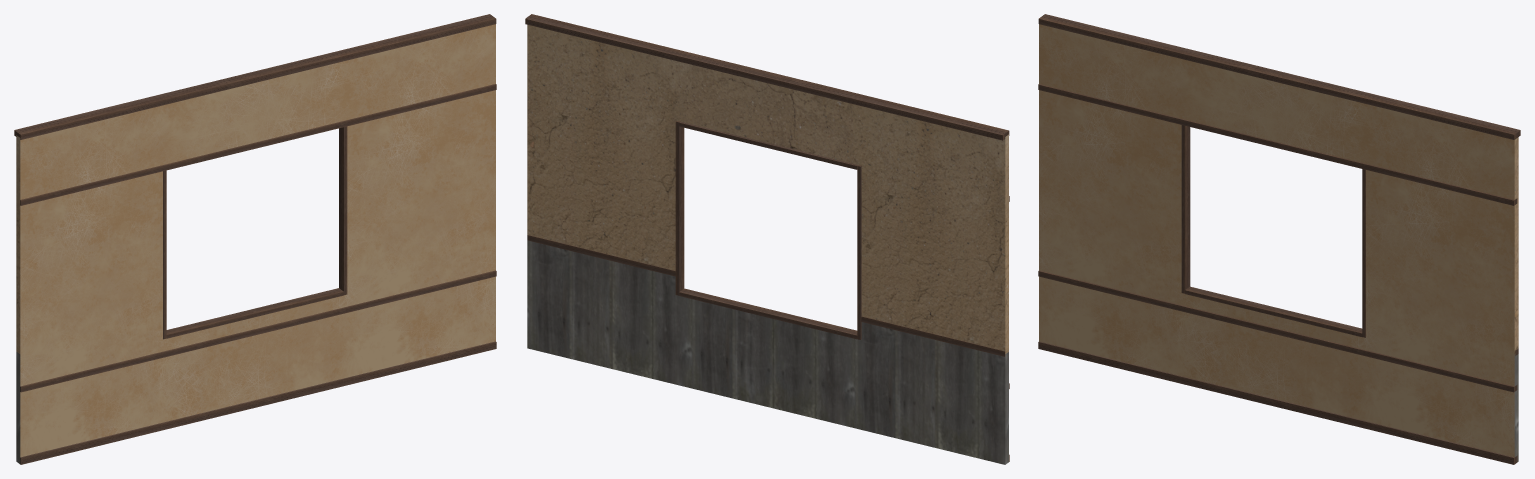
File: jov_outwall02_2t_mado_b1.fbx
3 views of the same model, side by side, from view 1: azimuth 30°, elevation 25°; view 2: azimuth 150°, elevation 25°; view 3: azimuth 330°, elevation 25° (orthographic).
Visible parts, largest first — view 1: jov_outwall02_2t_mado_b1; view 2: jov_outwall02_2t_mado_b1; view 3: jov_outwall02_2t_mado_b1.
Part boxes in pixels (<box>): jov_outwall02_2t_mado_b1: <box>14,14,496,464</box>; jov_outwall02_2t_mado_b1: <box>525,14,1009,464</box>; jov_outwall02_2t_mado_b1: <box>1038,14,1520,464</box>.
Bounding box in the file's own units: 440 × 292 × 11.05.
